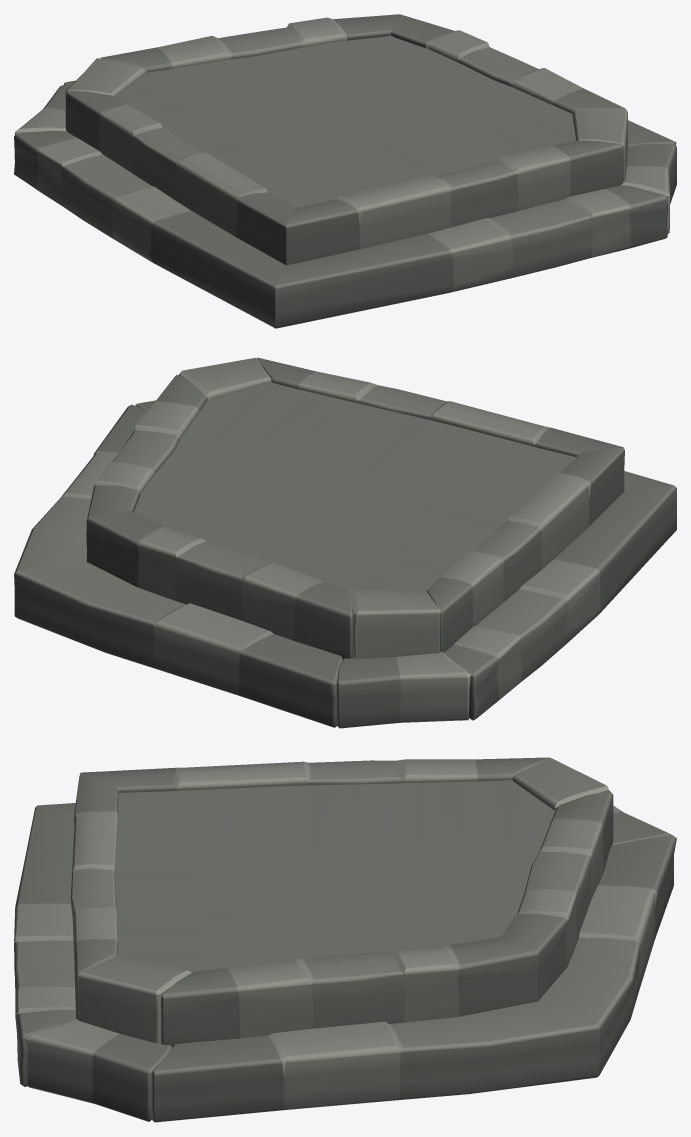
File: mine_base.fbx
The picture shows the model from 3 angles, top to bottom: view 1: azimuth 30°, elevation 25°; view 2: azimuth 150°, elevation 25°; view 3: azimuth 270°, elevation 25°; orthographic projection. The views are drawn at different scales.
Visible parts, largest first — view 1: mine_base; view 2: mine_base; view 3: mine_base.
Boxes of the visible parts, x1,y1,x2,y2 form: mine_base: (14,14,676,328); mine_base: (14,357,676,728); mine_base: (14,757,676,1122).
Size of the model in its own units: 835 by 145 by 802.
